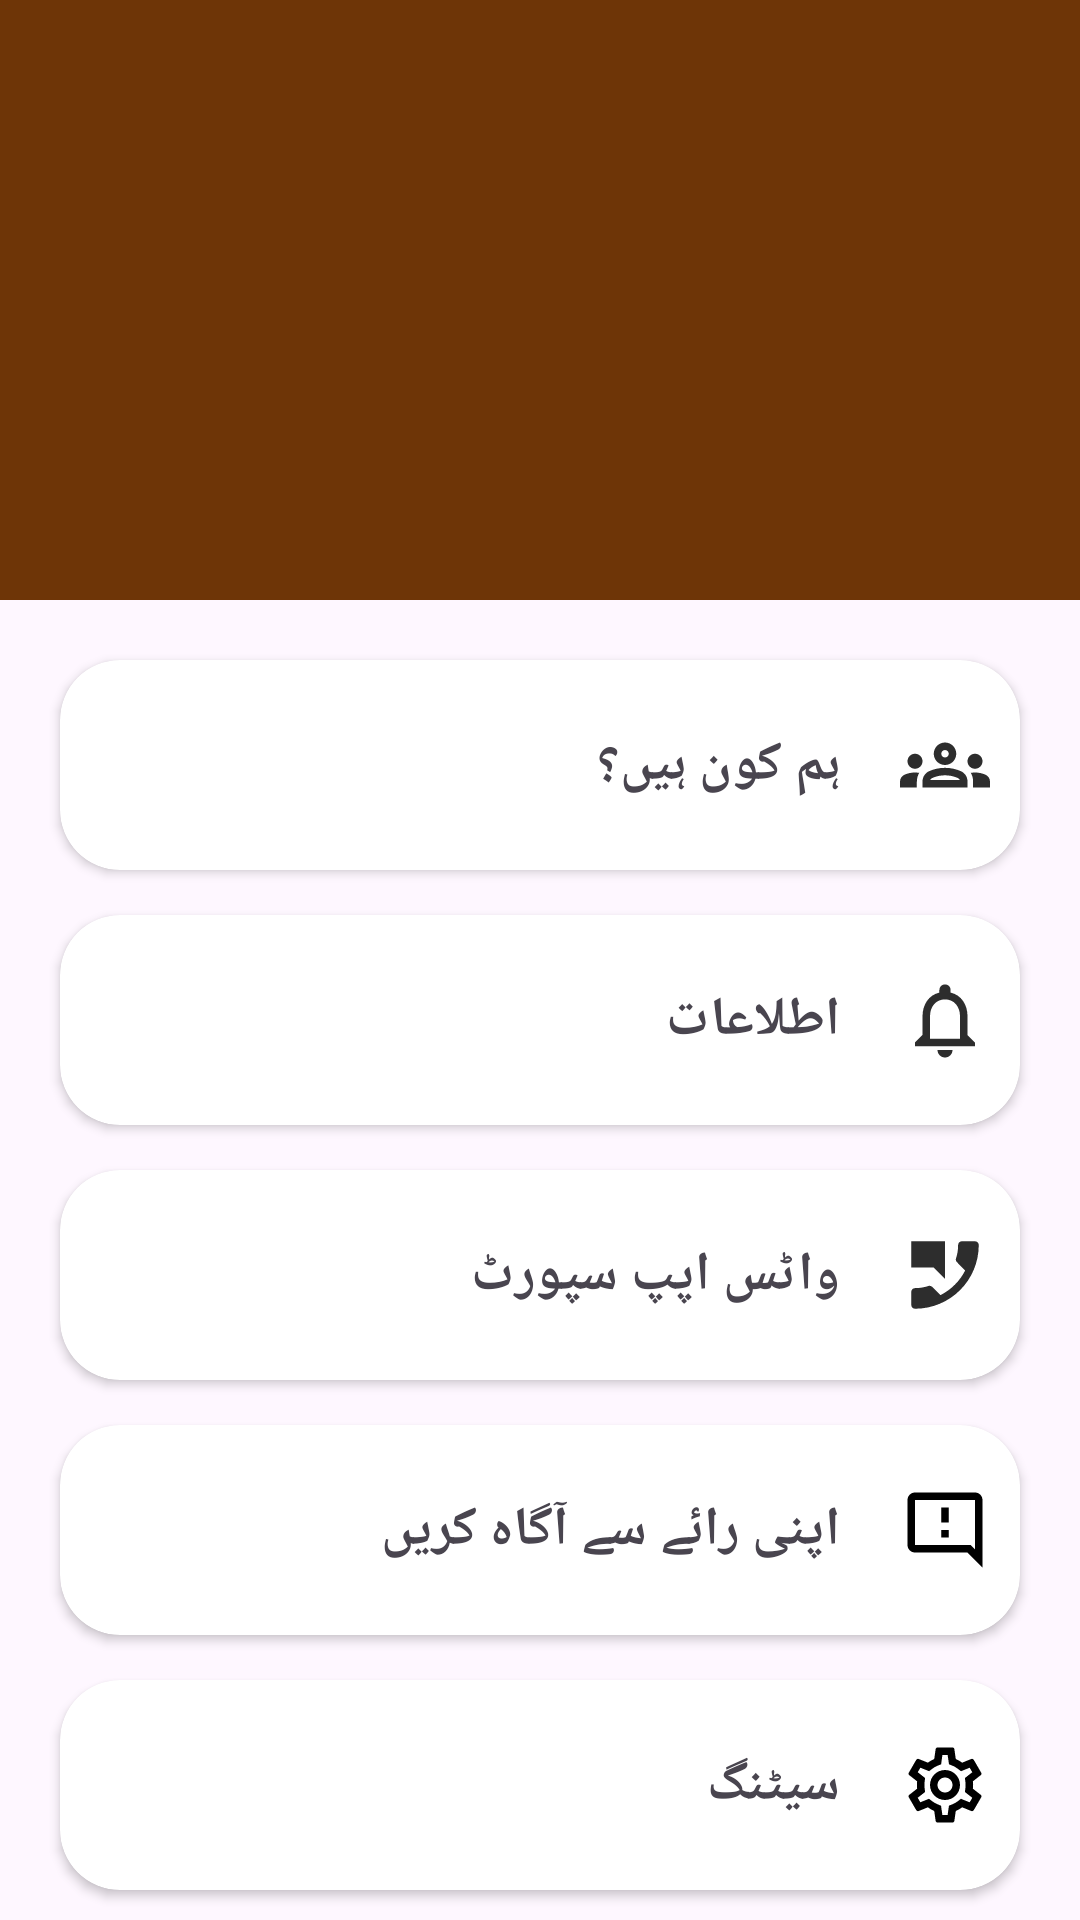

Where to tap for icons on this 1080 x 1920 app screen, as (x=x, y=y):
feedback: (x=945, y=1530)
groups: (x=945, y=765)
notifications: (x=945, y=1021)
perm phone msg: (x=945, y=1275)
settings: (x=945, y=1785)
